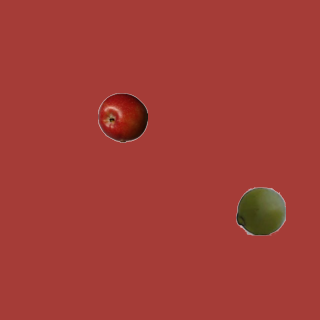Apple Braeburn: (97, 92, 147, 142)
Grape White 4: (235, 185, 285, 235)
